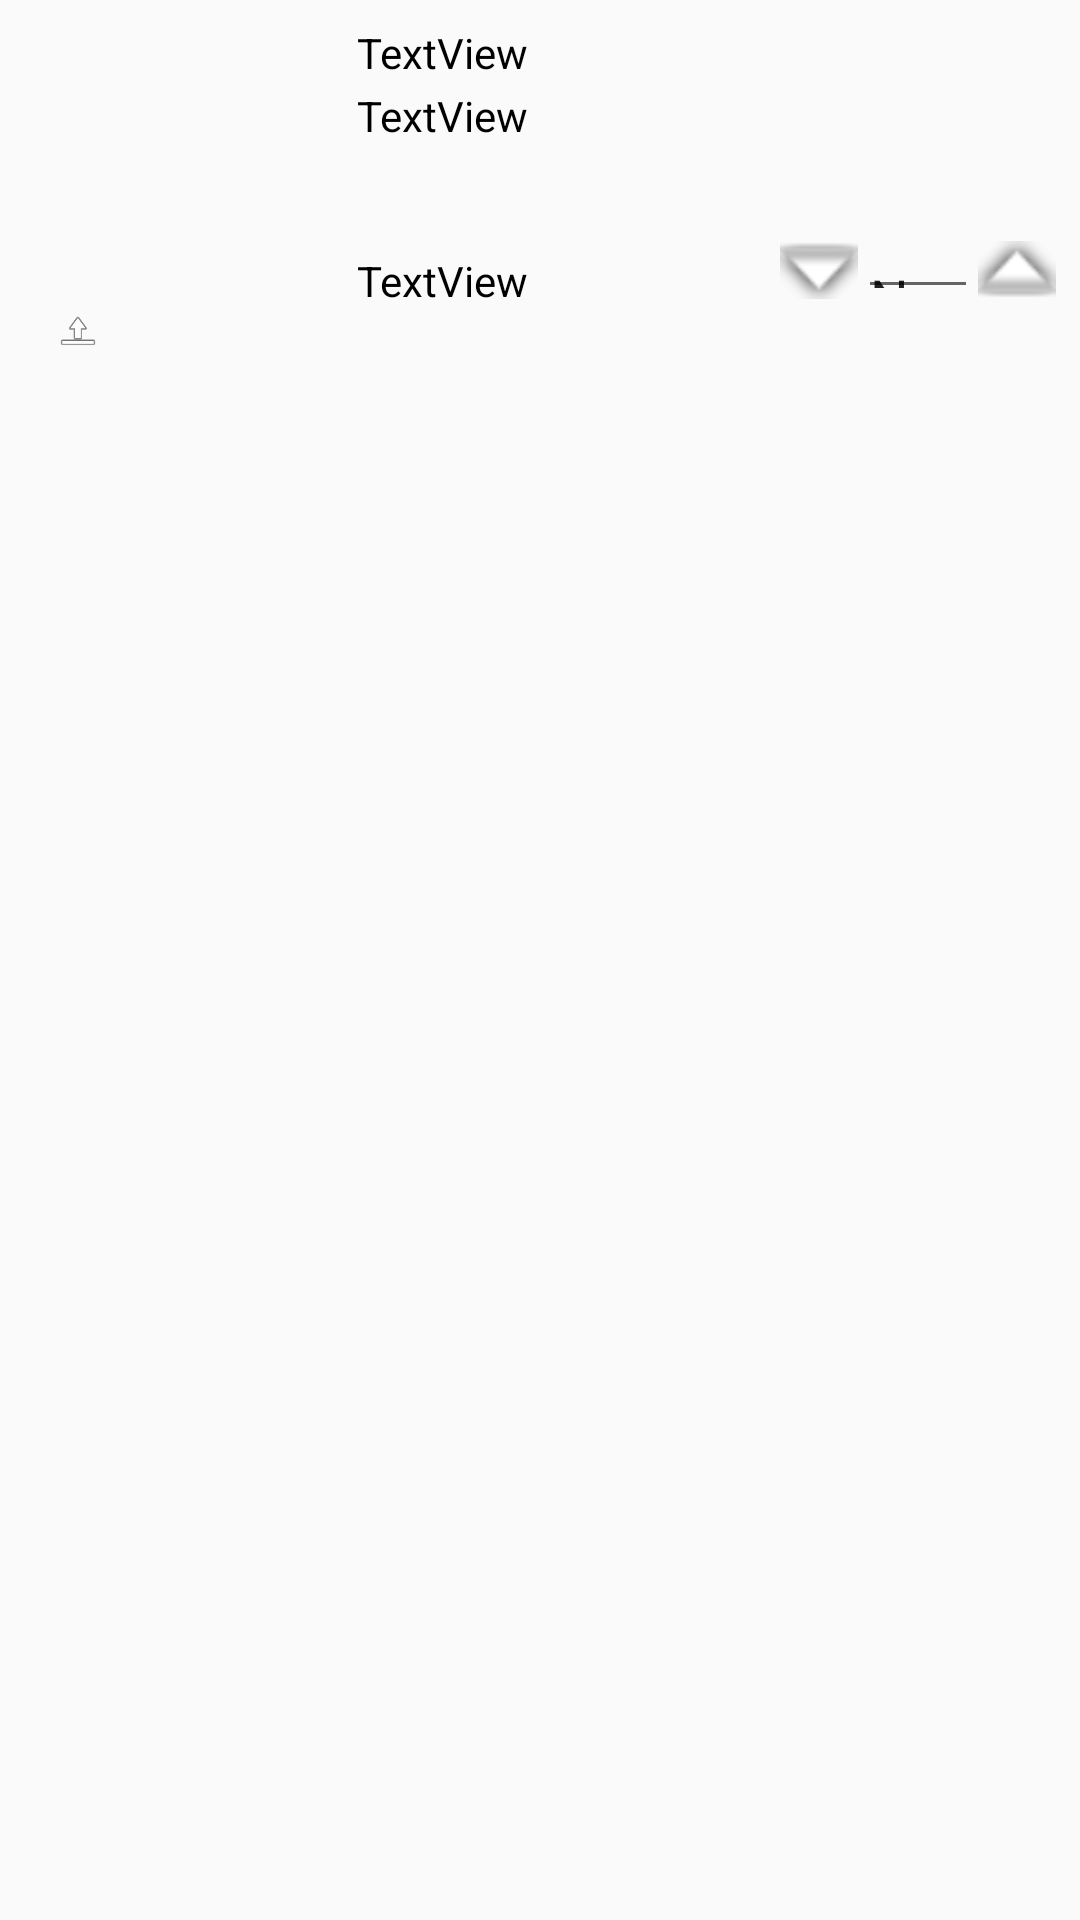

Point at icon controls on the screen. Image size 1080 x 1920, points as (x=x, y=y).
arrow down float: (x=819, y=270)
arrow up float: (x=1017, y=269)
upload: (x=78, y=331)
